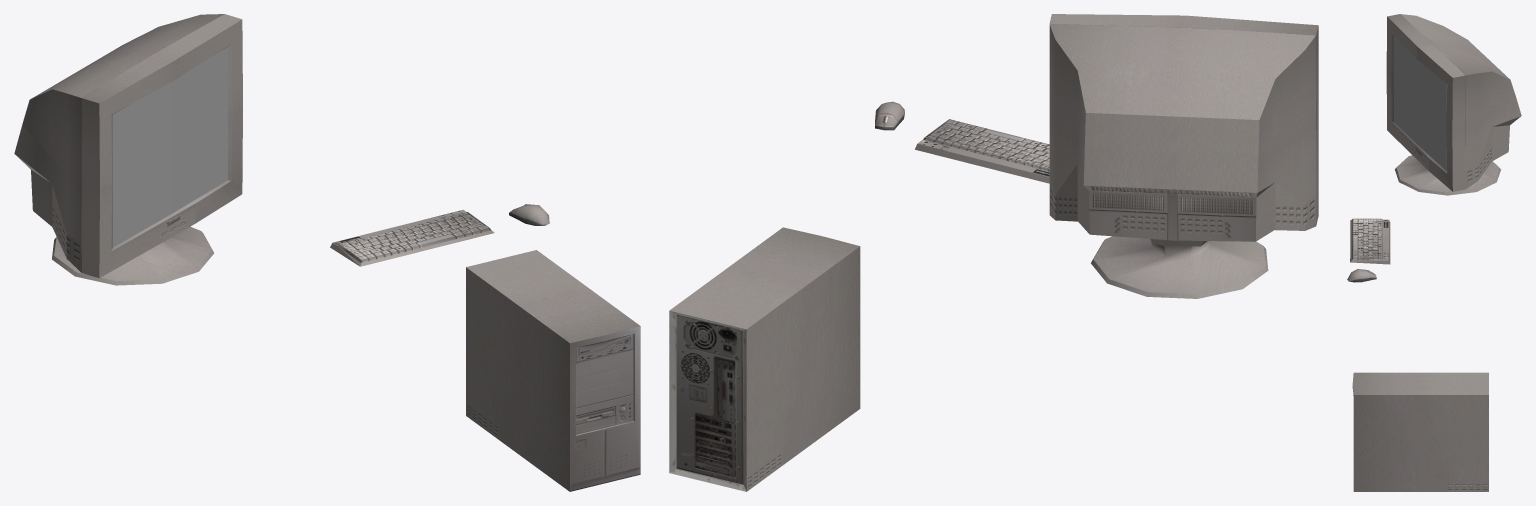
The model's file is Computer_Crt.fbx.
3 views of the same model, side by side, from view 1: azimuth 30°, elevation 25°; view 2: azimuth 150°, elevation 25°; view 3: azimuth 270°, elevation 25° (orthographic). The views are drawn at different scales.
Parts seen in each view (by area): view 1: Computer_Crt; view 2: Computer_Crt; view 3: Computer_Crt.
Boxes of the visible parts, box(x1,y1,x2,y2) form: Computer_Crt: box(14, 14, 640, 491); Computer_Crt: box(669, 14, 1318, 491); Computer_Crt: box(1347, 14, 1521, 491).
Bounding box in the file's own units: 162 × 140 × 70.77.
